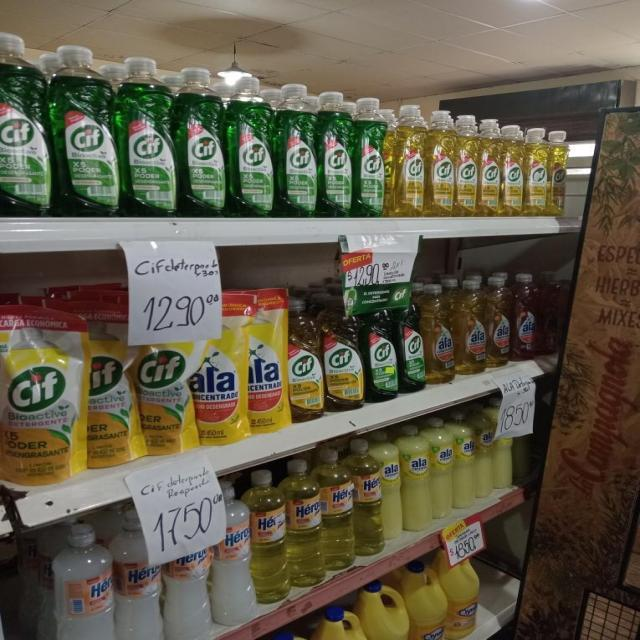ala_conc_amarillo: (455, 276, 486, 377), (424, 282, 454, 386), (487, 274, 511, 369)
ala_conc_rojo: (512, 272, 538, 362)
ala_crem_amarillo: (402, 423, 430, 533), (381, 429, 402, 542), (430, 416, 452, 521), (453, 411, 475, 511), (475, 403, 493, 501)
ala_sachet_amarillo: (194, 296, 246, 446), (248, 290, 287, 434)
cif_conc_bot_amarilla: (287, 296, 323, 422), (324, 301, 364, 412), (393, 103, 426, 220), (427, 108, 455, 218), (455, 112, 479, 218), (479, 116, 501, 218), (525, 125, 549, 217), (502, 122, 524, 217), (548, 129, 567, 217)
cif_conc_botella_verde: (50, 44, 116, 218), (118, 55, 174, 218), (1, 31, 48, 217), (177, 64, 225, 218), (226, 71, 274, 219), (276, 83, 317, 218), (319, 89, 354, 218), (355, 95, 387, 219), (365, 307, 397, 403), (398, 302, 424, 393)
cif_conc_sachet_amarillo: (0, 309, 83, 485), (138, 324, 192, 456), (85, 329, 136, 468)
heroe: (51, 522, 114, 640), (115, 514, 164, 640), (212, 477, 251, 627), (164, 529, 211, 640), (251, 468, 287, 607), (286, 457, 322, 589), (322, 445, 354, 574), (354, 436, 381, 558)
